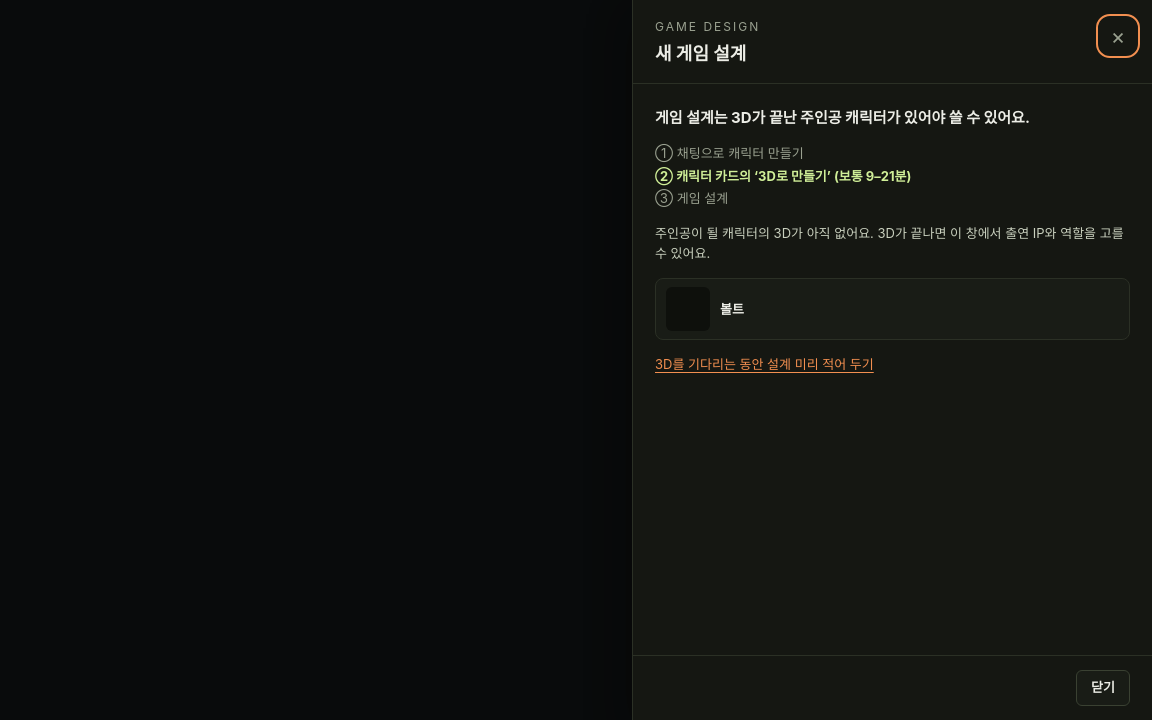
Test case: an IP whose picture is still being drawn › shows no thumbnail in the game design drawer and blocks it as cast
The width and height of the screenshot is (1152, 720).
Note: no hero is in 3D yet, so the drawer opens on what is missing: the form is asked for
Click the button with class "design-blocked-early" at x=764, y=364, box [655,354,874,375]
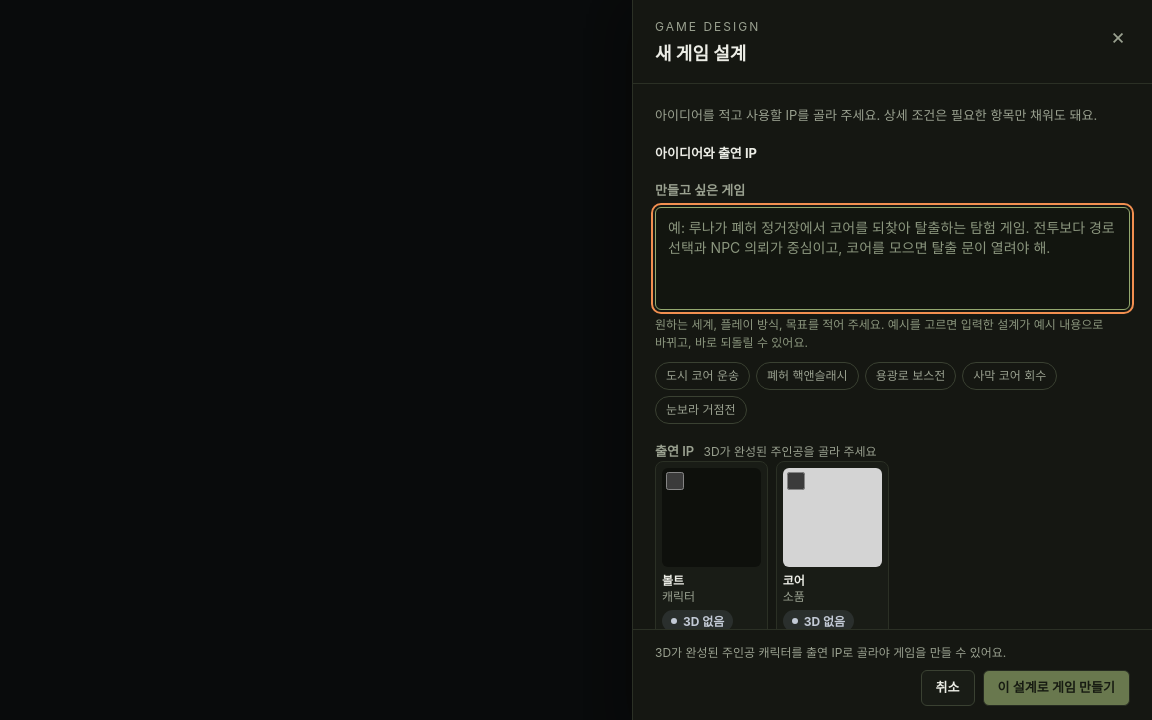
Click the checkbox named "볼트 출연 IP 선택" at x=675, y=481, box [666,472,684,490]
(page scrolled)
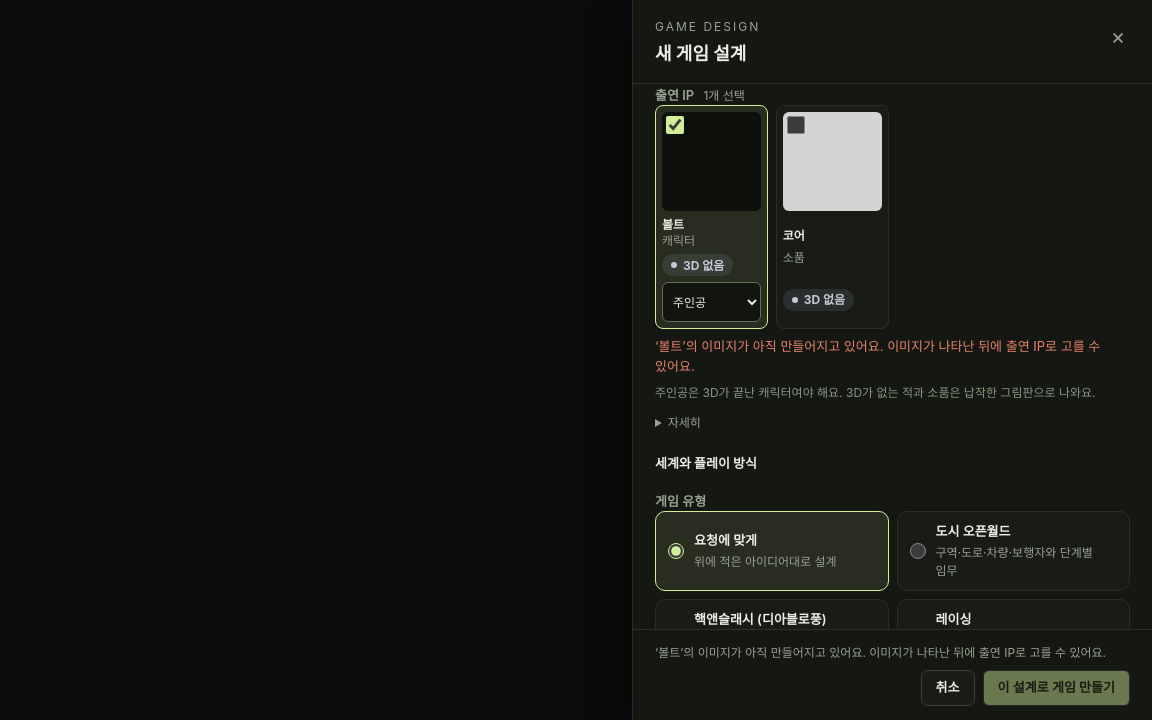
Expected: the message "‘볼트’의 이미지가 아직 만들어지고 있어요. 이미지가 나타난 뒤에 출연 IP로 고를 수 있어요." below "코어" is shown, [655,338,1100,374]
